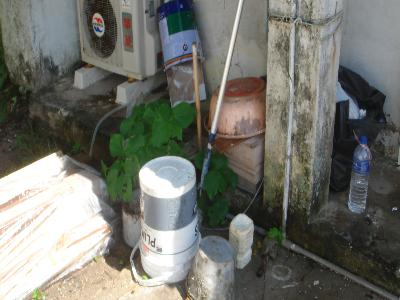bottle: (345, 132, 373, 216), (228, 212, 255, 271)
bowl: (206, 76, 267, 138)
bucket: (128, 152, 202, 300), (183, 235, 236, 300), (154, 2, 205, 69)
plastic_bag: (332, 65, 378, 191)
